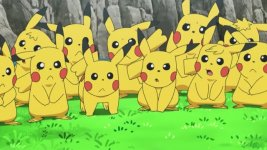pikachu: (100, 9, 164, 95), (135, 28, 197, 108), (15, 35, 74, 118), (79, 38, 133, 115), (188, 24, 236, 110)
